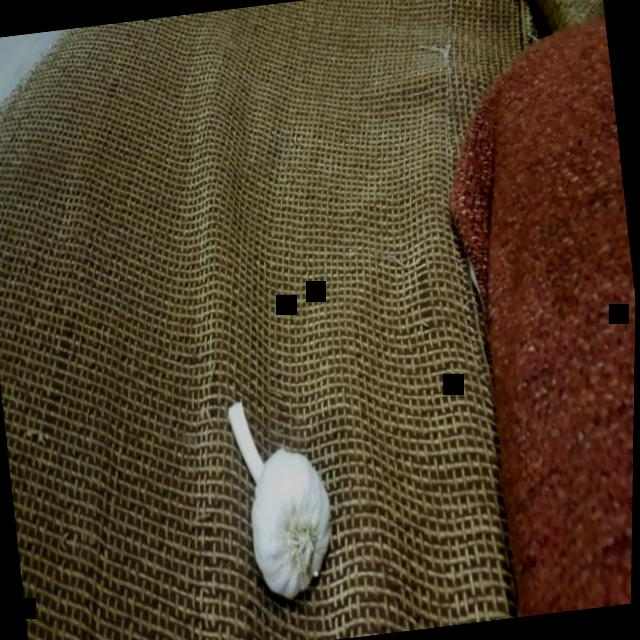garlic: (199, 389, 348, 609)
